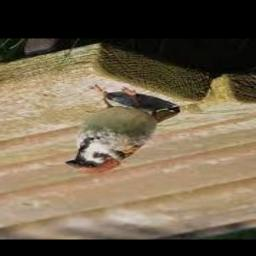Sparrow: (66, 86, 180, 173)
